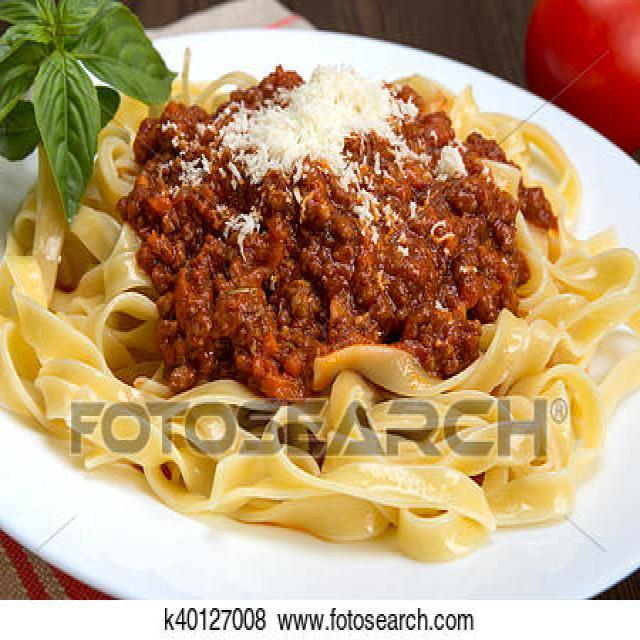Pasta al ragu: (118, 44, 580, 382)
